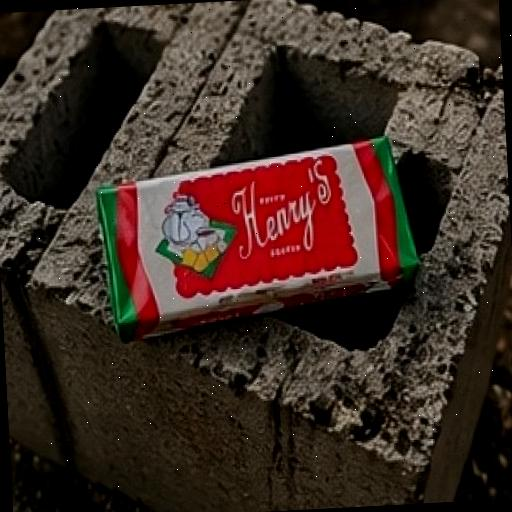henry-s: (48, 102, 479, 392)
